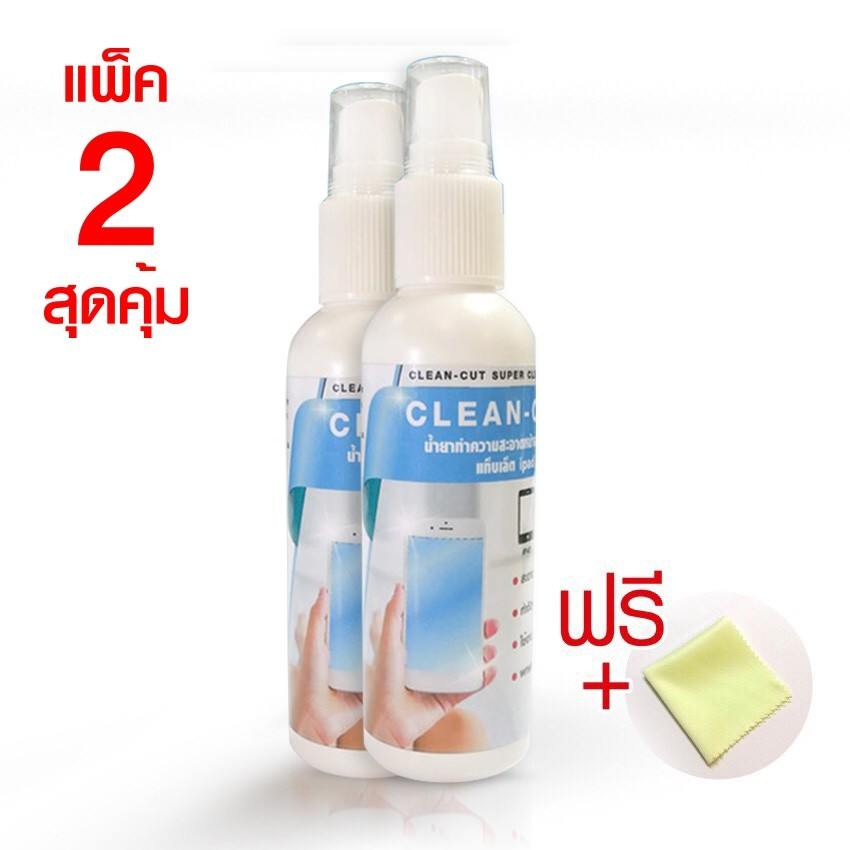Cleaning_solution: (358, 52, 542, 791), (277, 78, 414, 785)
